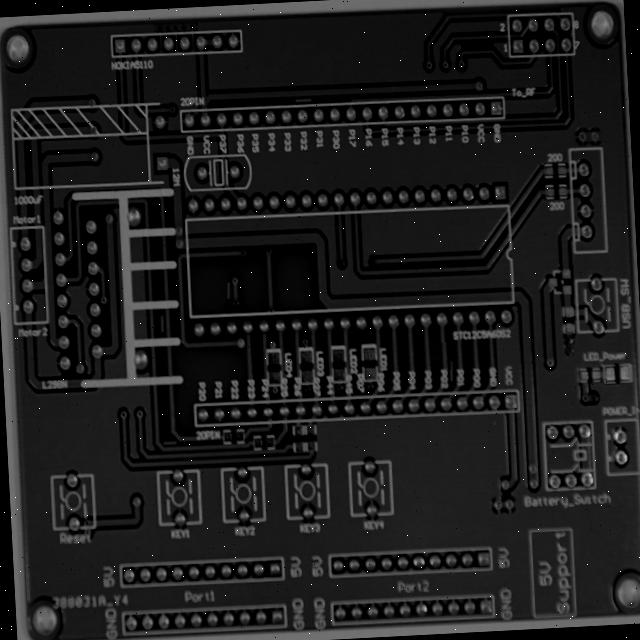spurious_copper: (132, 290, 150, 320), (273, 57, 300, 73), (139, 419, 160, 439), (436, 341, 451, 369), (204, 254, 218, 282)
